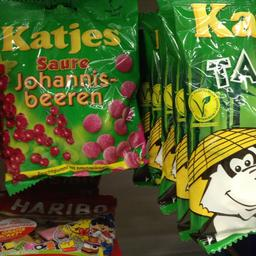candy: (0, 0, 138, 192), (169, 0, 255, 242)
